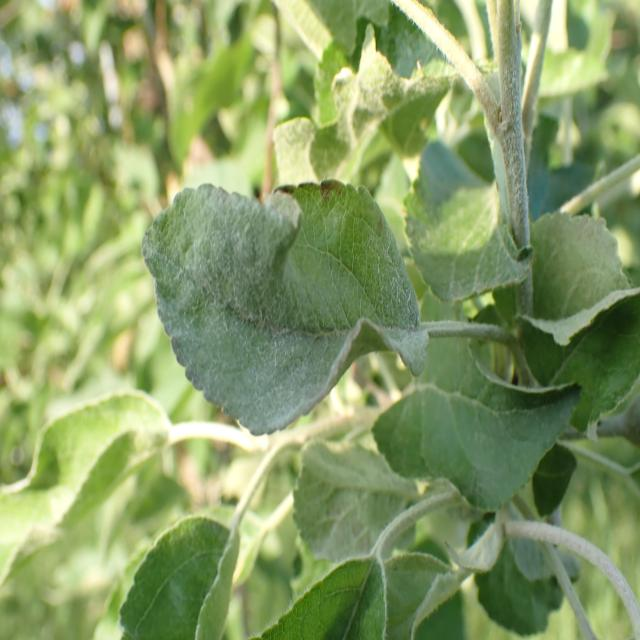Powdery_mildew: (120, 156, 421, 431)
